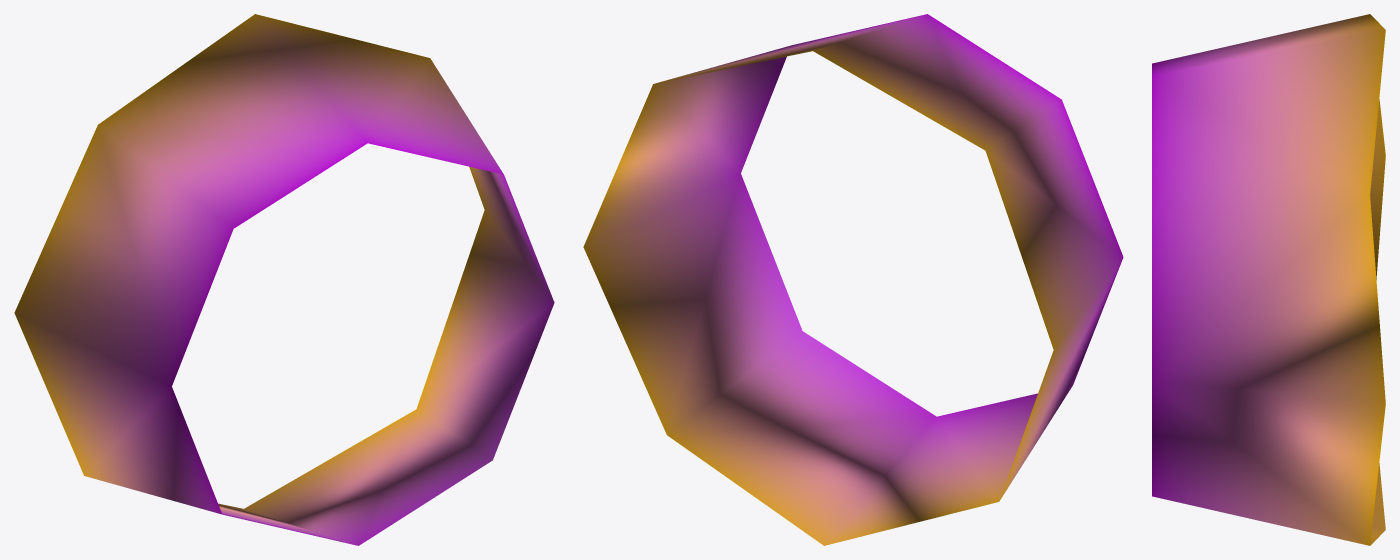
File: presscr.glb
3 views of the same model, side by side, from view 1: azimuth 30°, elevation 25°; view 2: azimuth 150°, elevation 25°; view 3: azimuth 270°, elevation 25° (orthographic). The views are drawn at different scales.
Parts seen in each view (by area): view 1: PressCRight; view 2: PressCRight; view 3: PressCRight.
Boxes of the visible parts, x1,y1,x2,y2 form: PressCRight: [14, 14, 554, 545]; PressCRight: [583, 14, 1123, 545]; PressCRight: [1152, 14, 1385, 545].
Bounding box in the file's own units: 0.2139 × 0.2139 × 0.0896.
